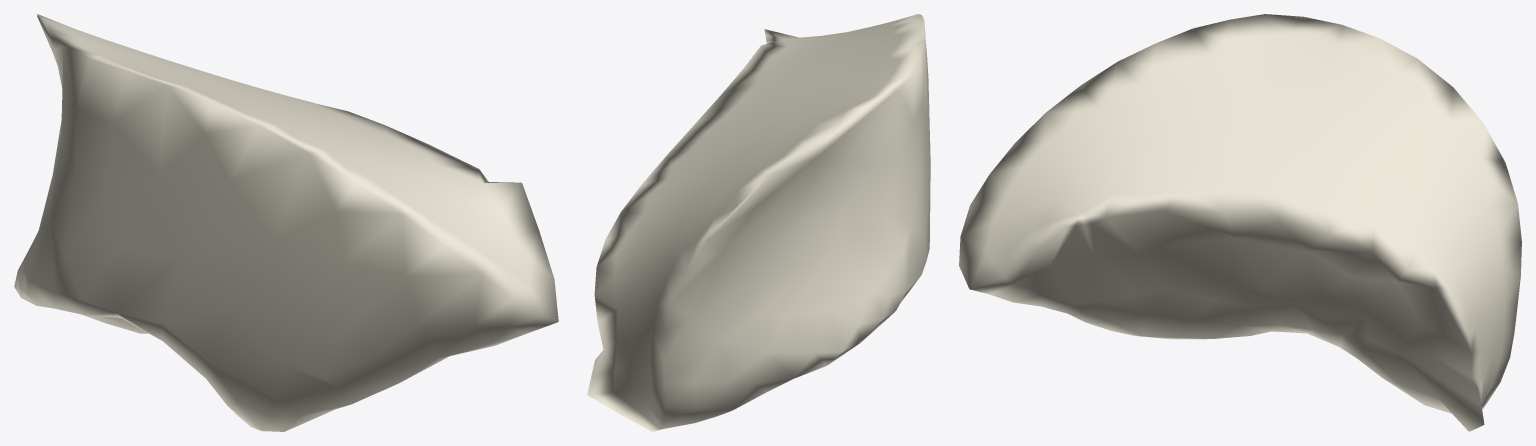
File: fma54677_mm948.glb
3 views of the same model, side by side, from view 1: azimuth 30°, elevation 25°; view 2: azimuth 150°, elevation 25°; view 3: azimuth 270°, elevation 25° (orthographic). The views are drawn at different scales.
Parts seen in each view (by area): view 1: FMA54677_MM948; view 2: FMA54677_MM948; view 3: FMA54677_MM948.
Part boxes in pixels (x1=…): FMA54677_MM948: x1=14, y1=14, x2=558, y2=431; FMA54677_MM948: x1=587, y1=14, x2=930, y2=431; FMA54677_MM948: x1=959, y1=14, x2=1521, y2=431.
Size of the model in its own units: 0.0103 by 0.0119 by 0.0185.
